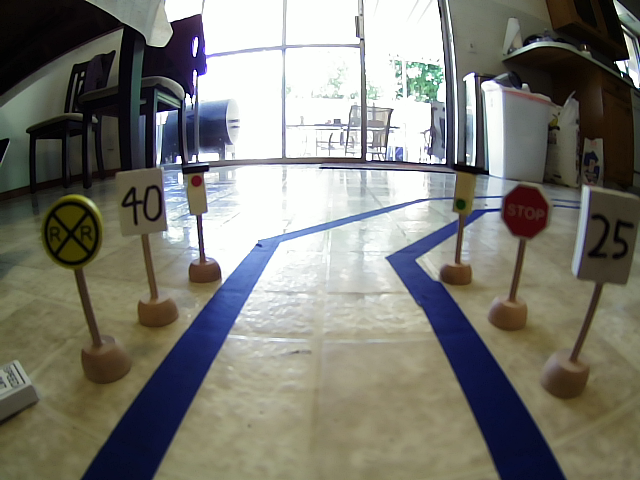25: (573, 184, 639, 292)
40: (115, 169, 169, 235)
green: (449, 161, 481, 216)
rail: (40, 190, 104, 273)
red: (182, 163, 214, 216)
stop: (501, 180, 552, 244)
